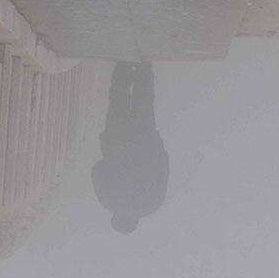person: (87, 58, 174, 235)
